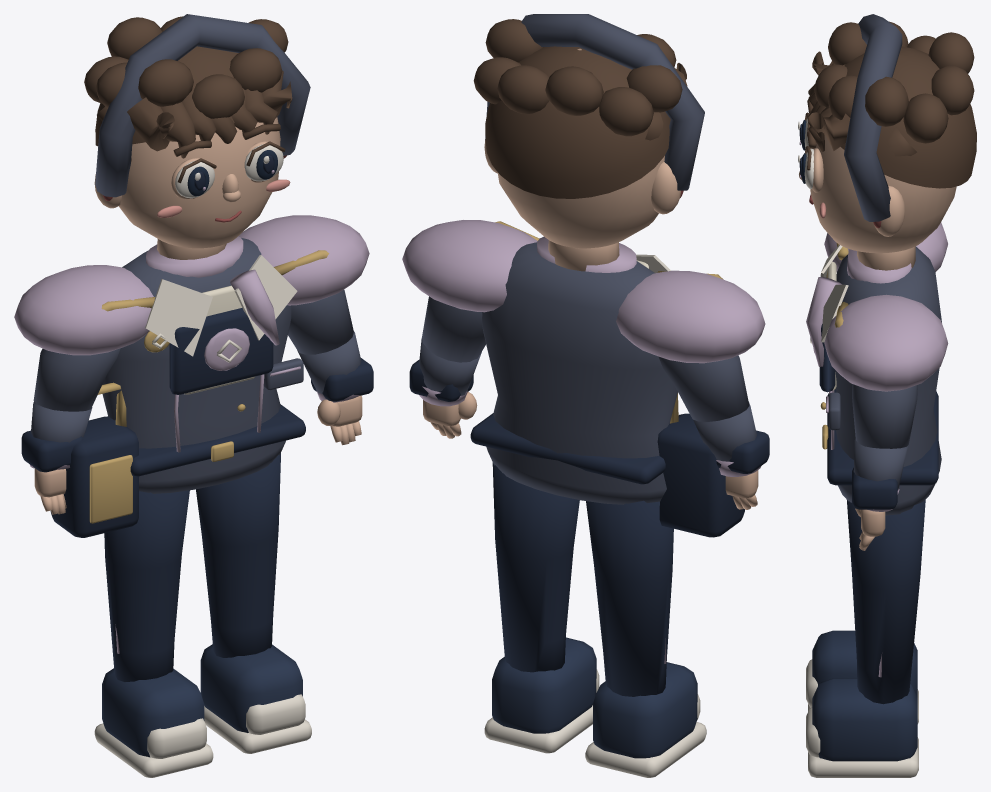
File: npc_graveyard_lieutenant_2.glb
3 renders of one model, left to right at view 1: azimuth 30°, elevation 25°; view 2: azimuth 150°, elevation 25°; view 3: azimuth 270°, elevation 25°, orthographic. The views are drawn at different scales.
Parts seen in each view (by area): view 1: figure.056; view 2: figure.056; view 3: figure.056.
Part boxes in pixels (x1,y1,x2,y2): figure.056: (14,14,373,777); figure.056: (402,14,769,777); figure.056: (798,14,976,777).
Bounding box in the file's own units: 0.8566 × 1.72 × 0.3894.
